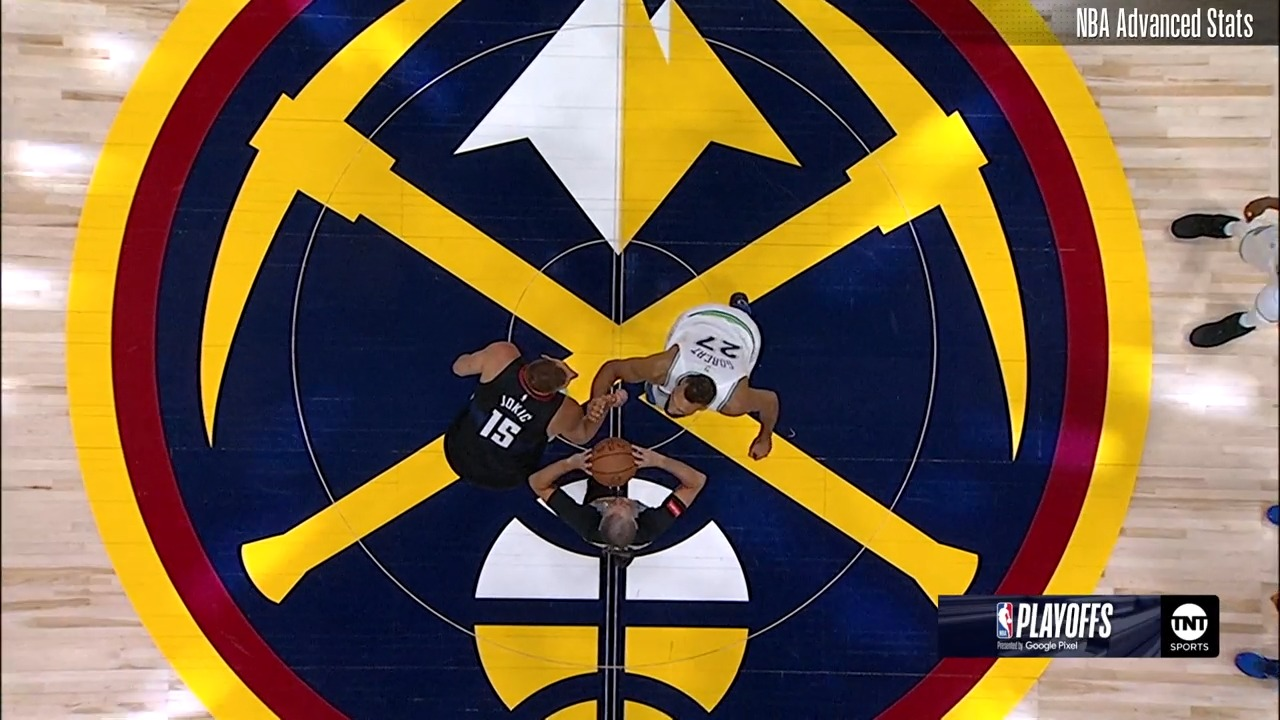basketball: (589, 433, 639, 486)
